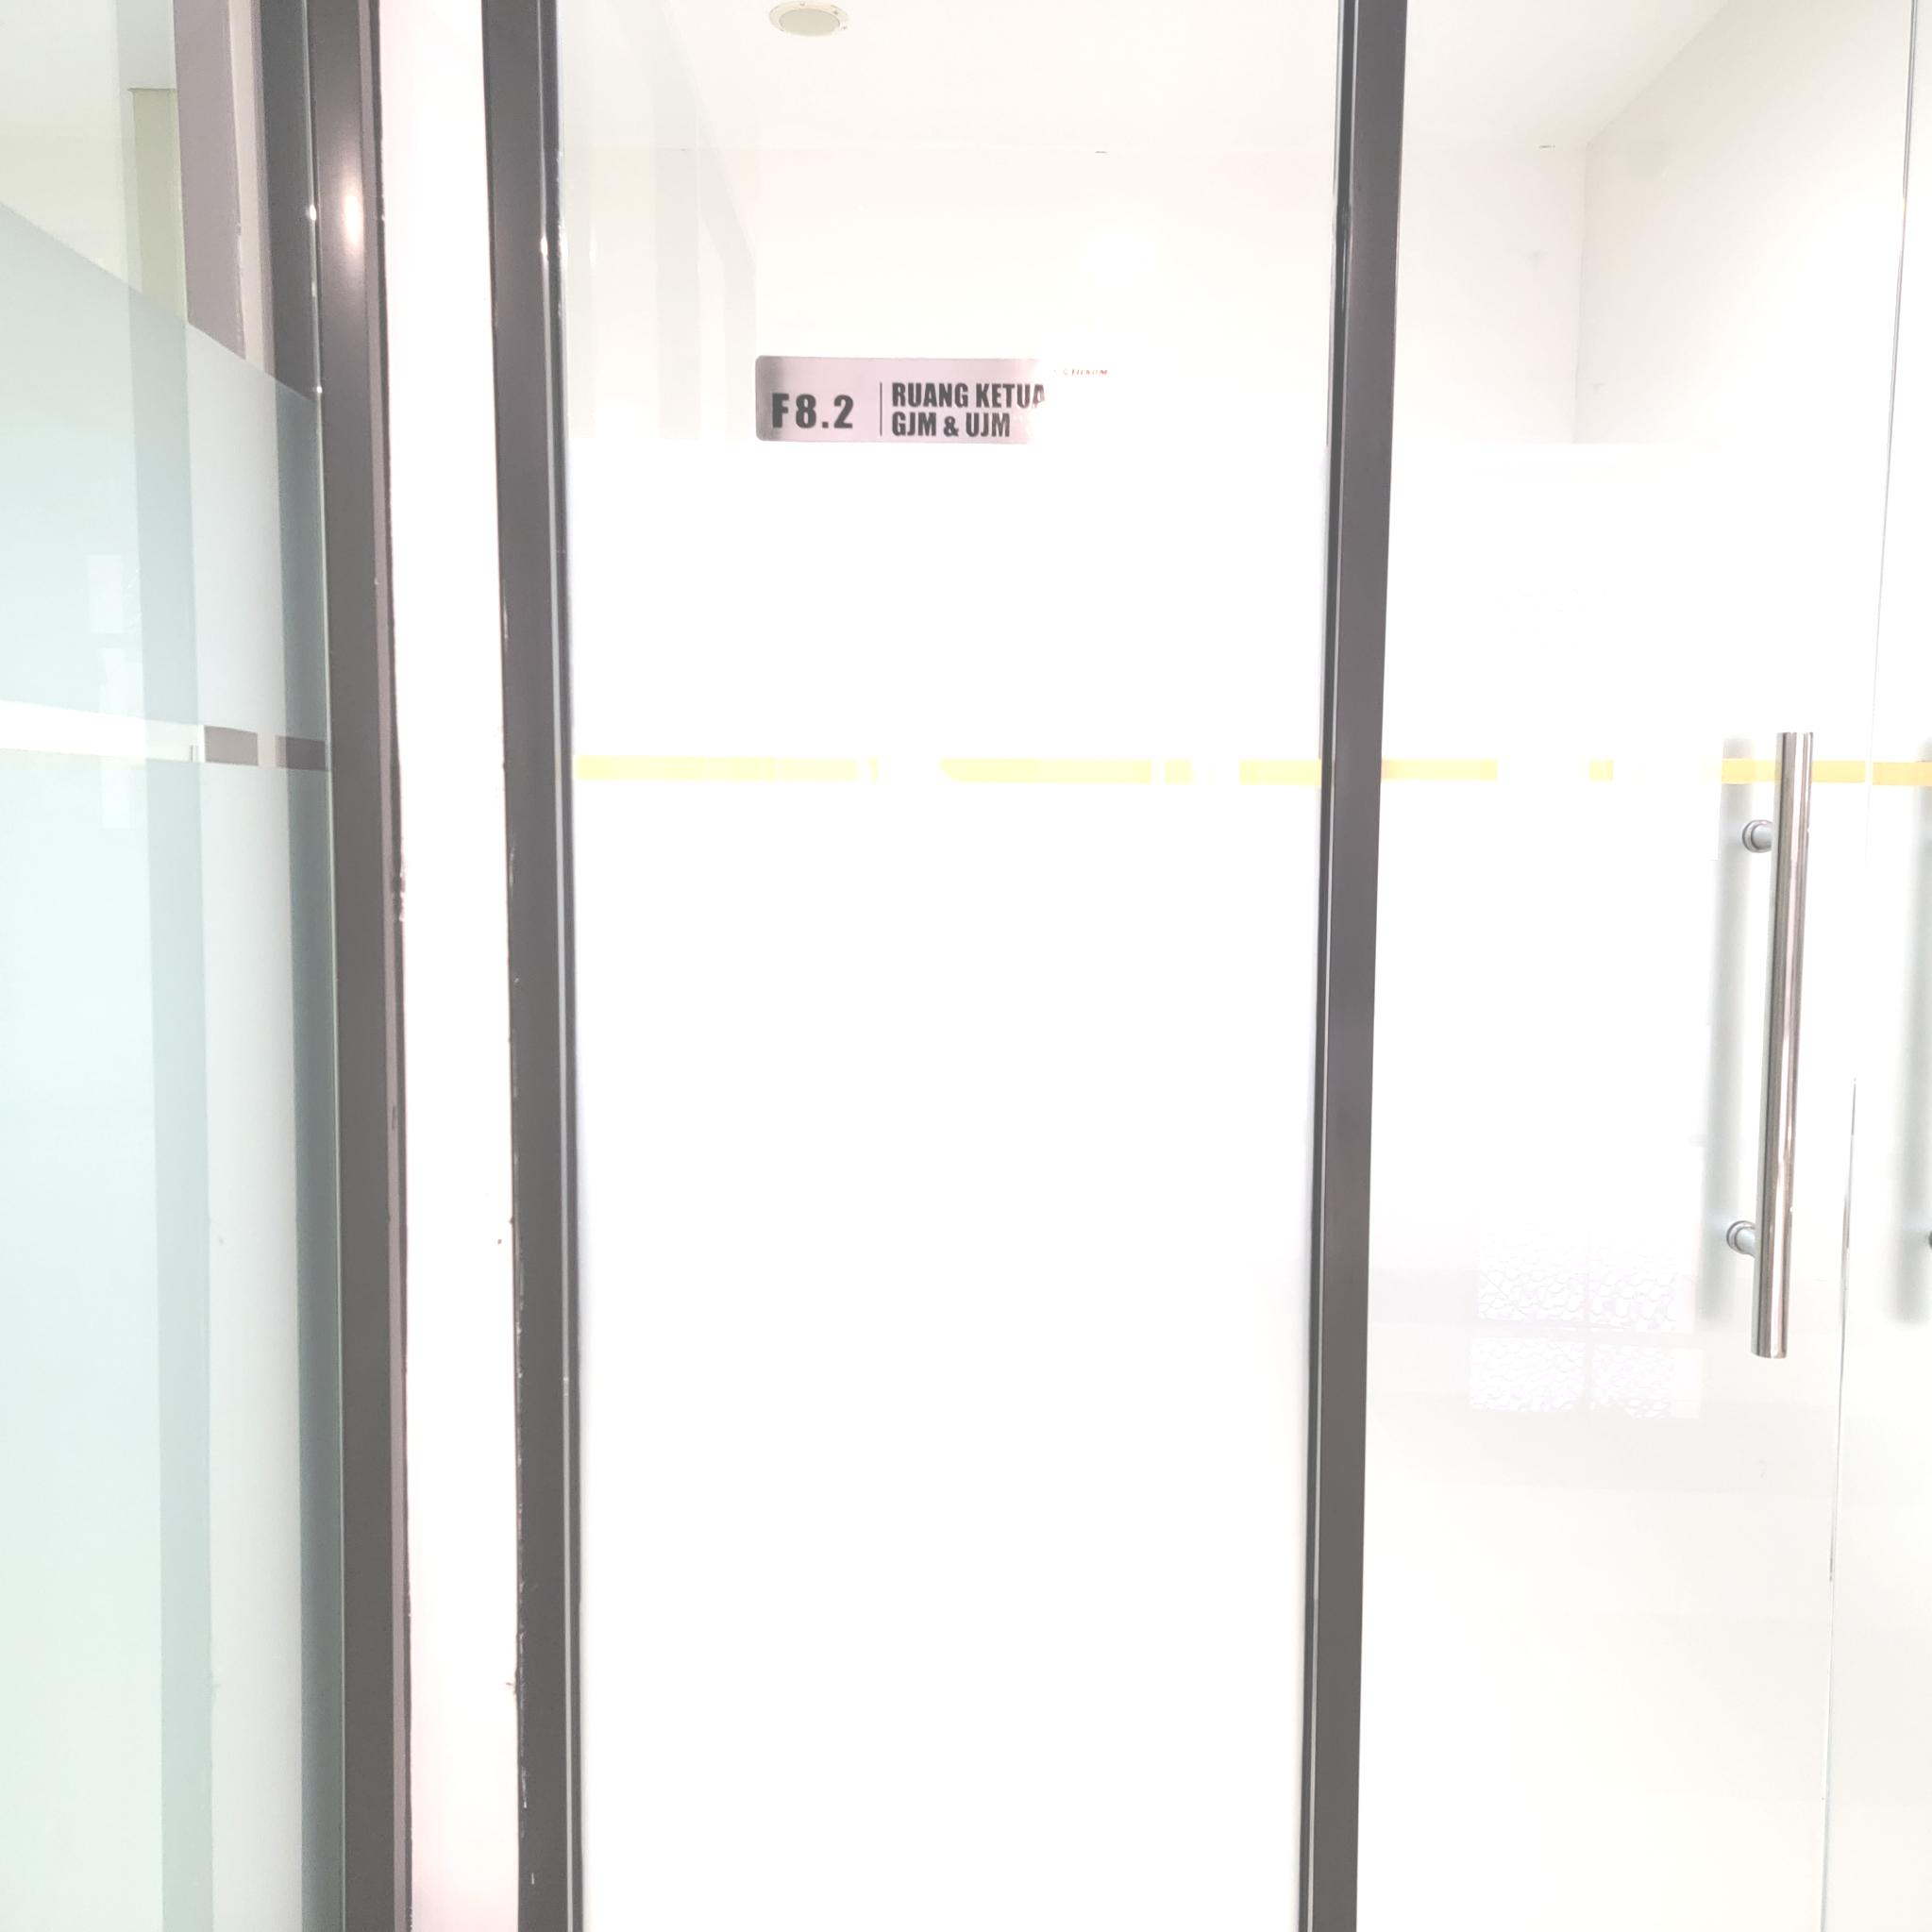plate: (752, 352, 1123, 449)
